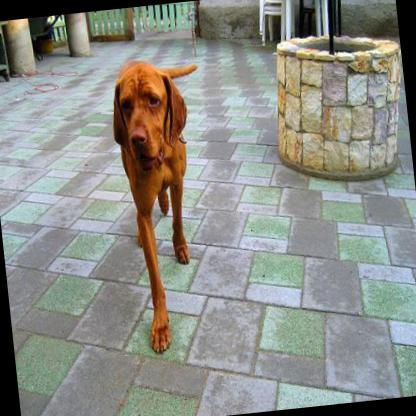vizsla: (102, 49, 226, 355)
